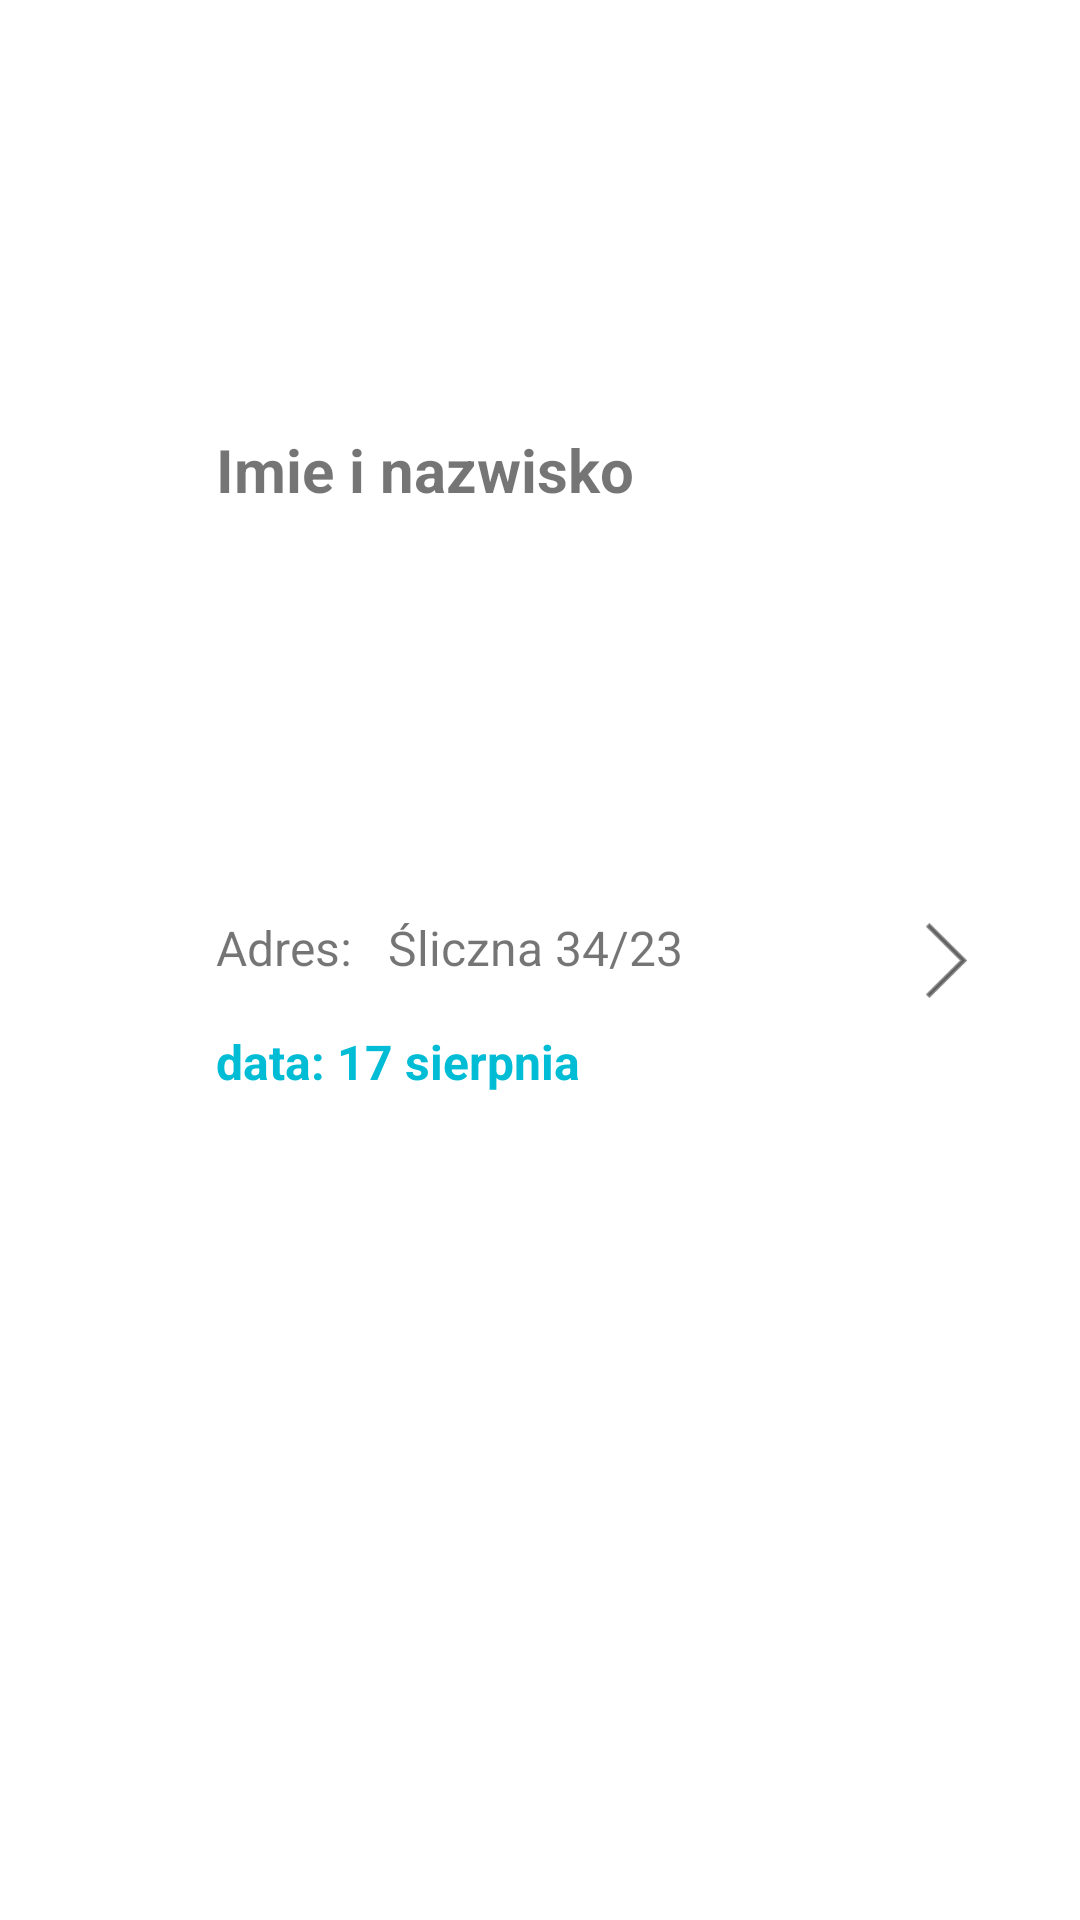

Icons on this 1080px x 1920px Android screen, each with the point to tap as point (x, y):
arrow next: point (946, 960)
